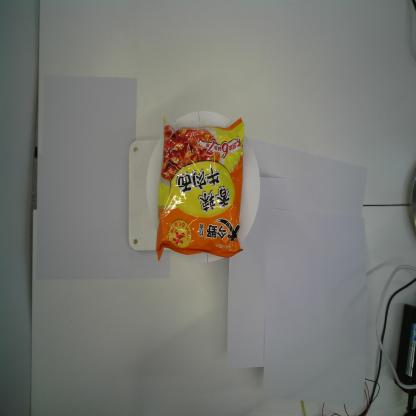Instant Noodles: (156, 117, 245, 262)
